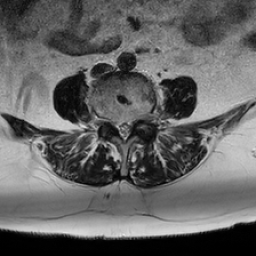CCS_normal: (121, 114, 128, 148)
LFS_stenosis: (134, 106, 142, 128)
LLS_normal: (128, 110, 134, 140)
RFS_stenosis: (106, 108, 114, 131)
RLS_normal: (114, 110, 121, 139)
